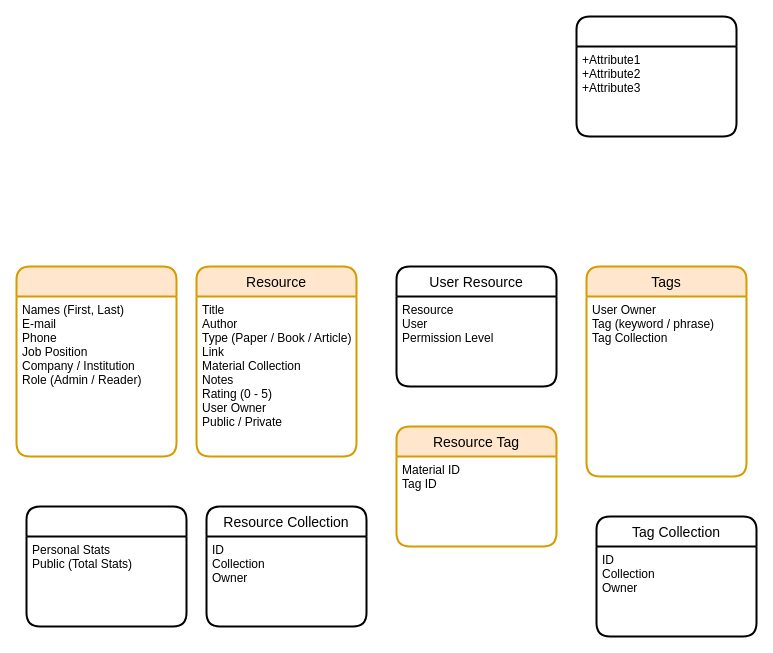
Some shapes in this 773 by 653 pixel diagram are drawn without their labels. The shapes that lost their labels are listed below. From the top down, each one's box as (x1, y1, x2, y2) in pixels, then its label:
(575, 15, 737, 137): Quote ?
(15, 265, 177, 457): User
(25, 505, 187, 627): Statistics
